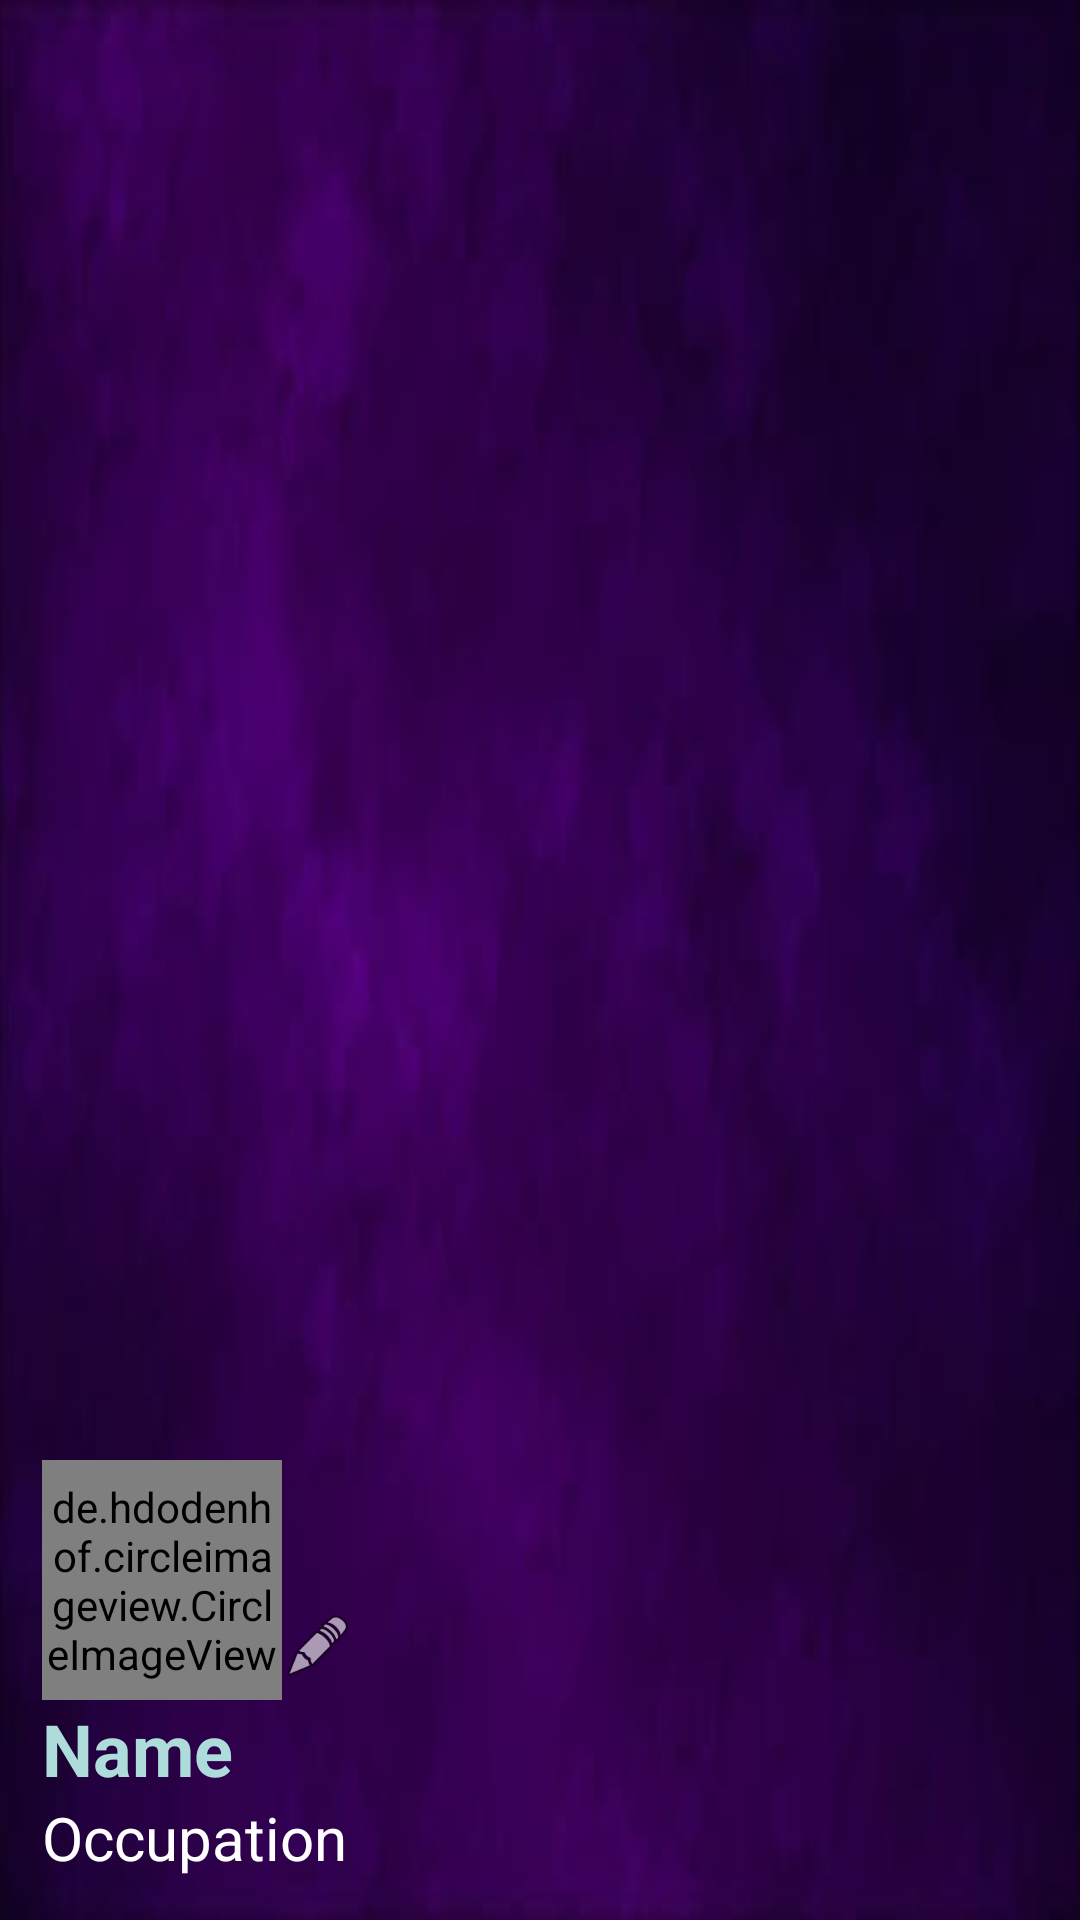

Screen size 1080 x 1920. Icon name, then its center in pixels as (x,y):
edit: (318,1645)
